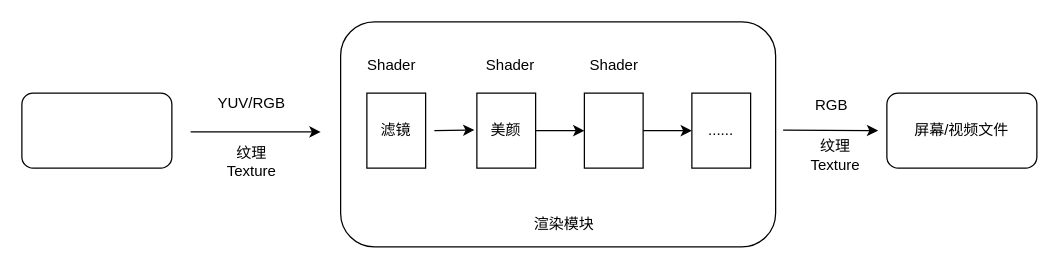
This 1059x269 diagram has some shape labels left out. Each missing label, with the centre of its shape:
视频流: point 96,130
贴纸: point 613,130
